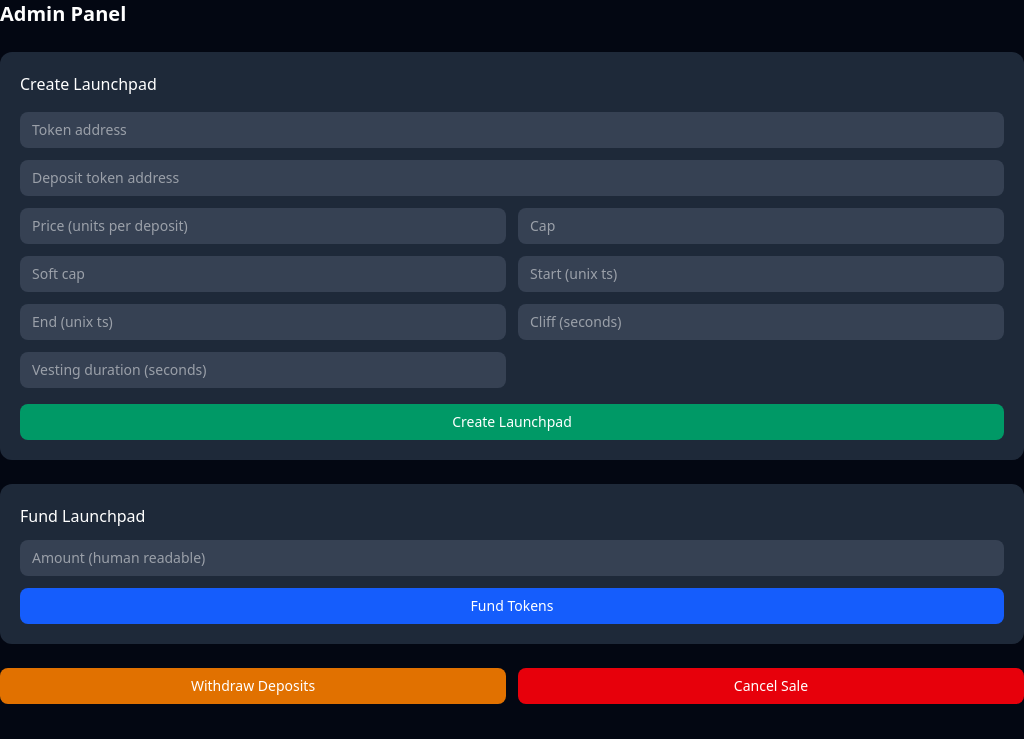
AdminPanel › handleCancel shows error on failure
Click the button "Cancel Sale": point(771, 686) [518,668,1023,704]
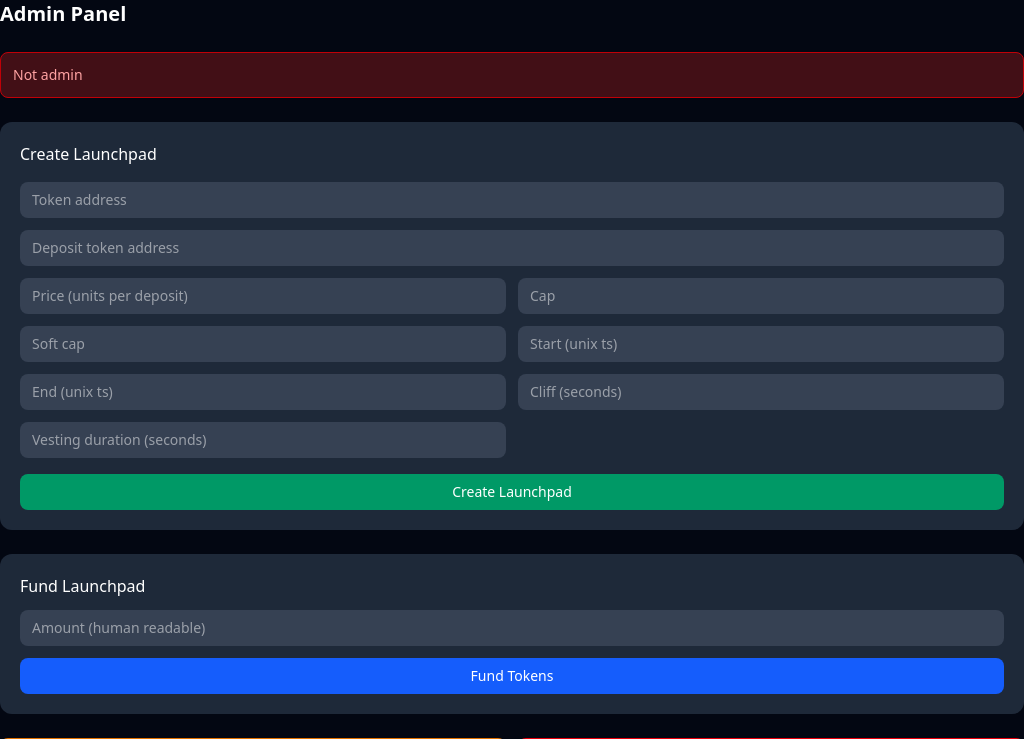
Now the text "Not admin" is shown, box [0,52,1023,98]
